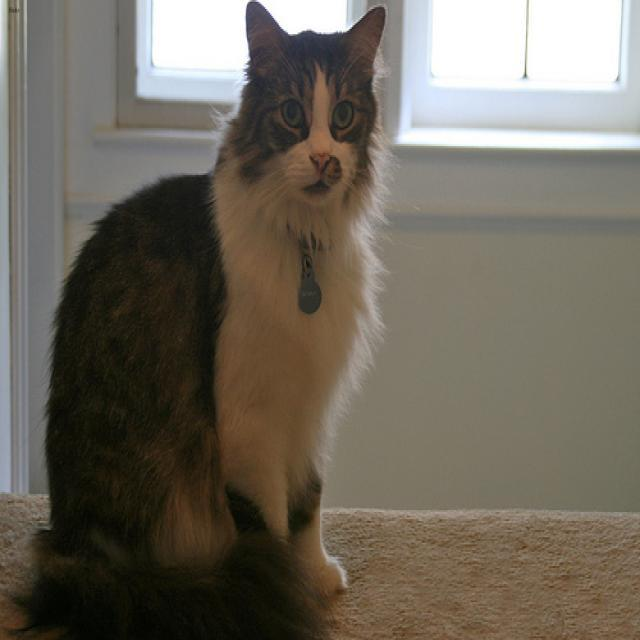Maine_Coon: (238, 0, 388, 217)
